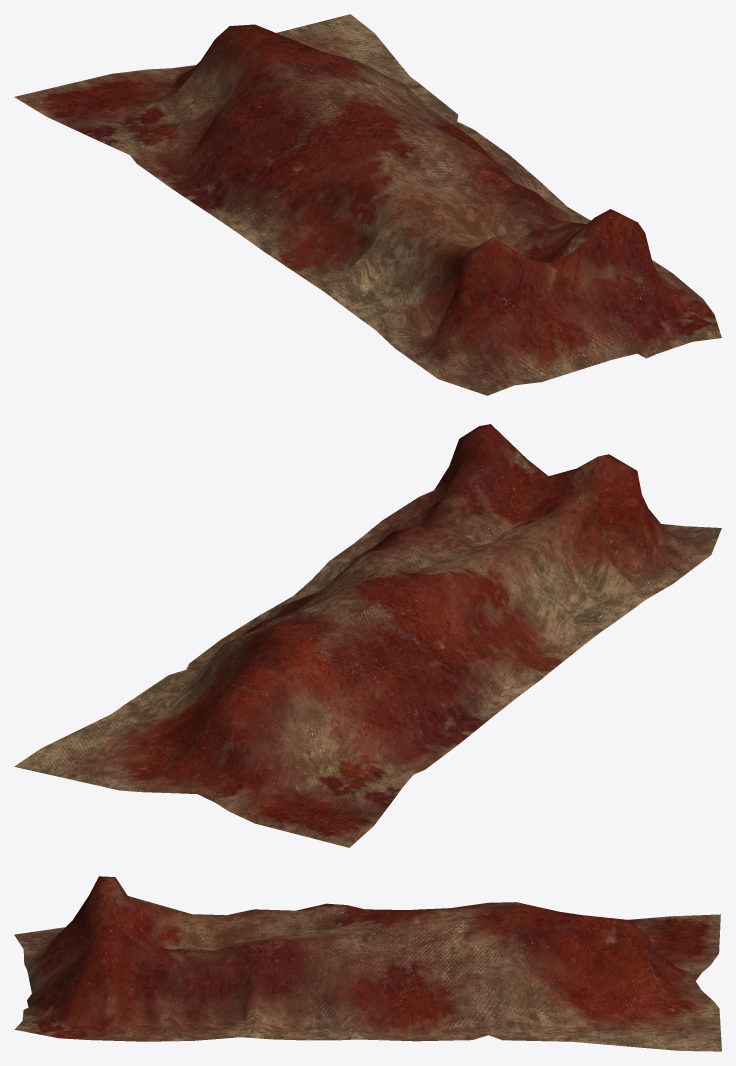
File: corpse.glb
The picture shows the model from 3 angles, top to bottom: view 1: azimuth 30°, elevation 25°; view 2: azimuth 150°, elevation 25°; view 3: azimuth 270°, elevation 25°; orthographic projection. The views are drawn at different scales.
Visible parts, largest first — view 1: muerto_muerto_0; view 2: muerto_muerto_0; view 3: muerto_muerto_0.
Part boxes in pixels (x1,y1,x2,y2): muerto_muerto_0: (14,14,721,395); muerto_muerto_0: (14,424,721,847); muerto_muerto_0: (14,876,721,1051).
Bounding box in the file's own units: 0.9659 × 0.3015 × 2.11.
1 material, 1 textured.
